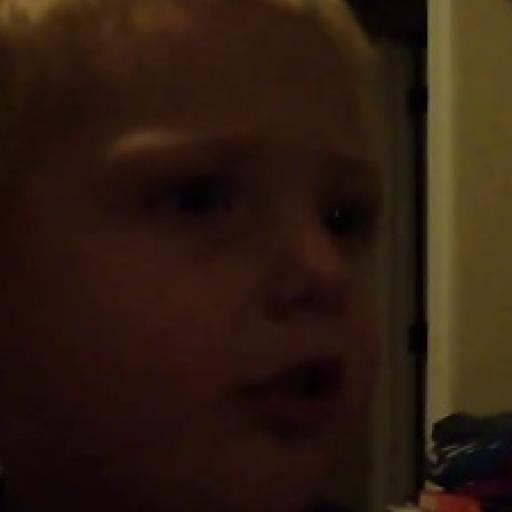Autism: (13, 25, 512, 512)
